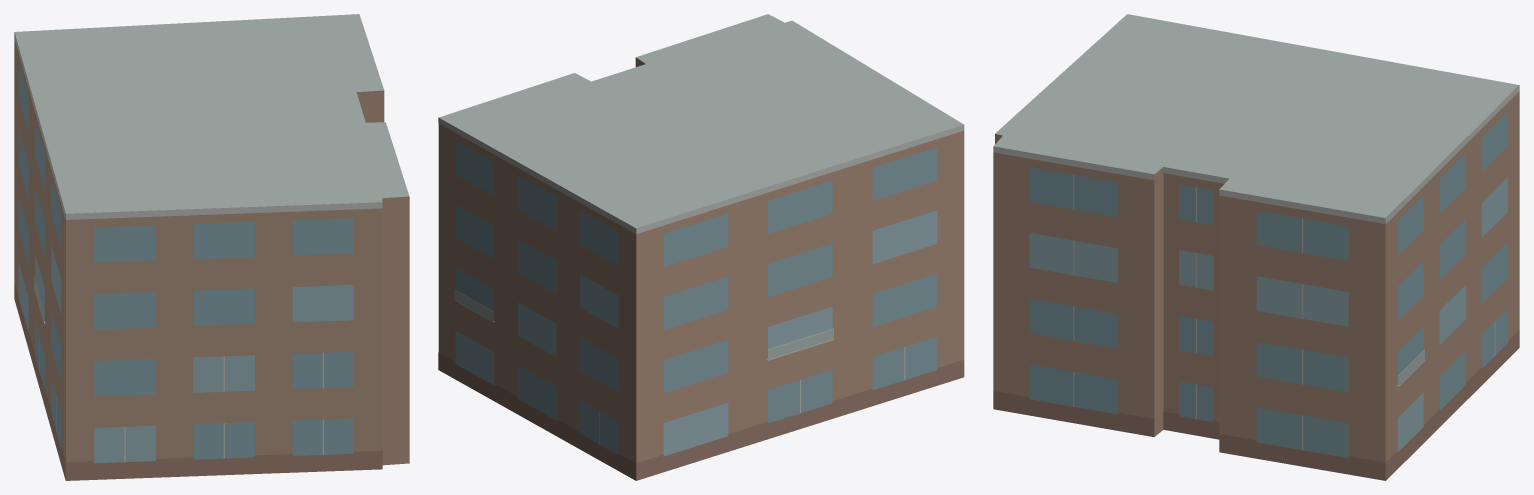
The model's file is survey-upis-32817306.glb.
3 renders of one model, left to right at view 1: azimuth 30°, elevation 25°; view 2: azimuth 150°, elevation 25°; view 3: azimuth 270°, elevation 25°, orthographic. The views are drawn at different scales.
Visible parts, largest first — view 1: survey-upis-32817306.tmp; view 2: survey-upis-32817306.tmp; view 3: survey-upis-32817306.tmp.
Boxes of the visible parts, x1,y1,x2,y2 form: survey-upis-32817306.tmp: (14,14,409,480); survey-upis-32817306.tmp: (438,14,964,480); survey-upis-32817306.tmp: (993,14,1519,480).
Size of the model in its own units: 17.58 by 10.55 by 19.15.
